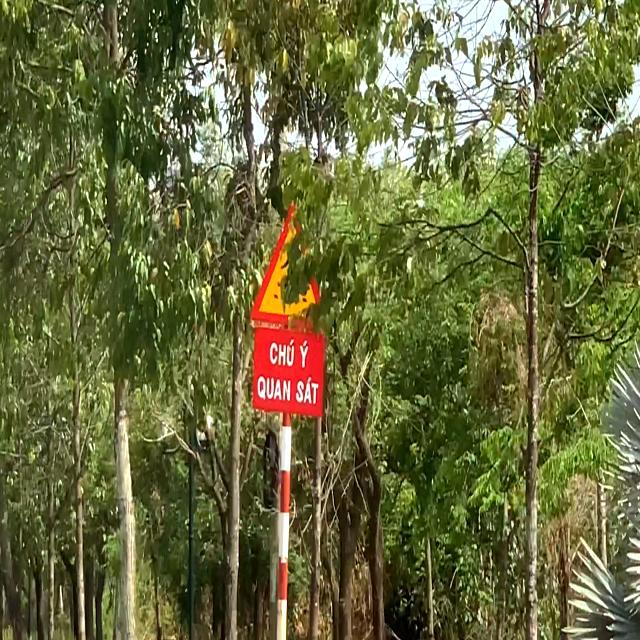Nguoi di bo cat ngang: (252, 200, 328, 326)
